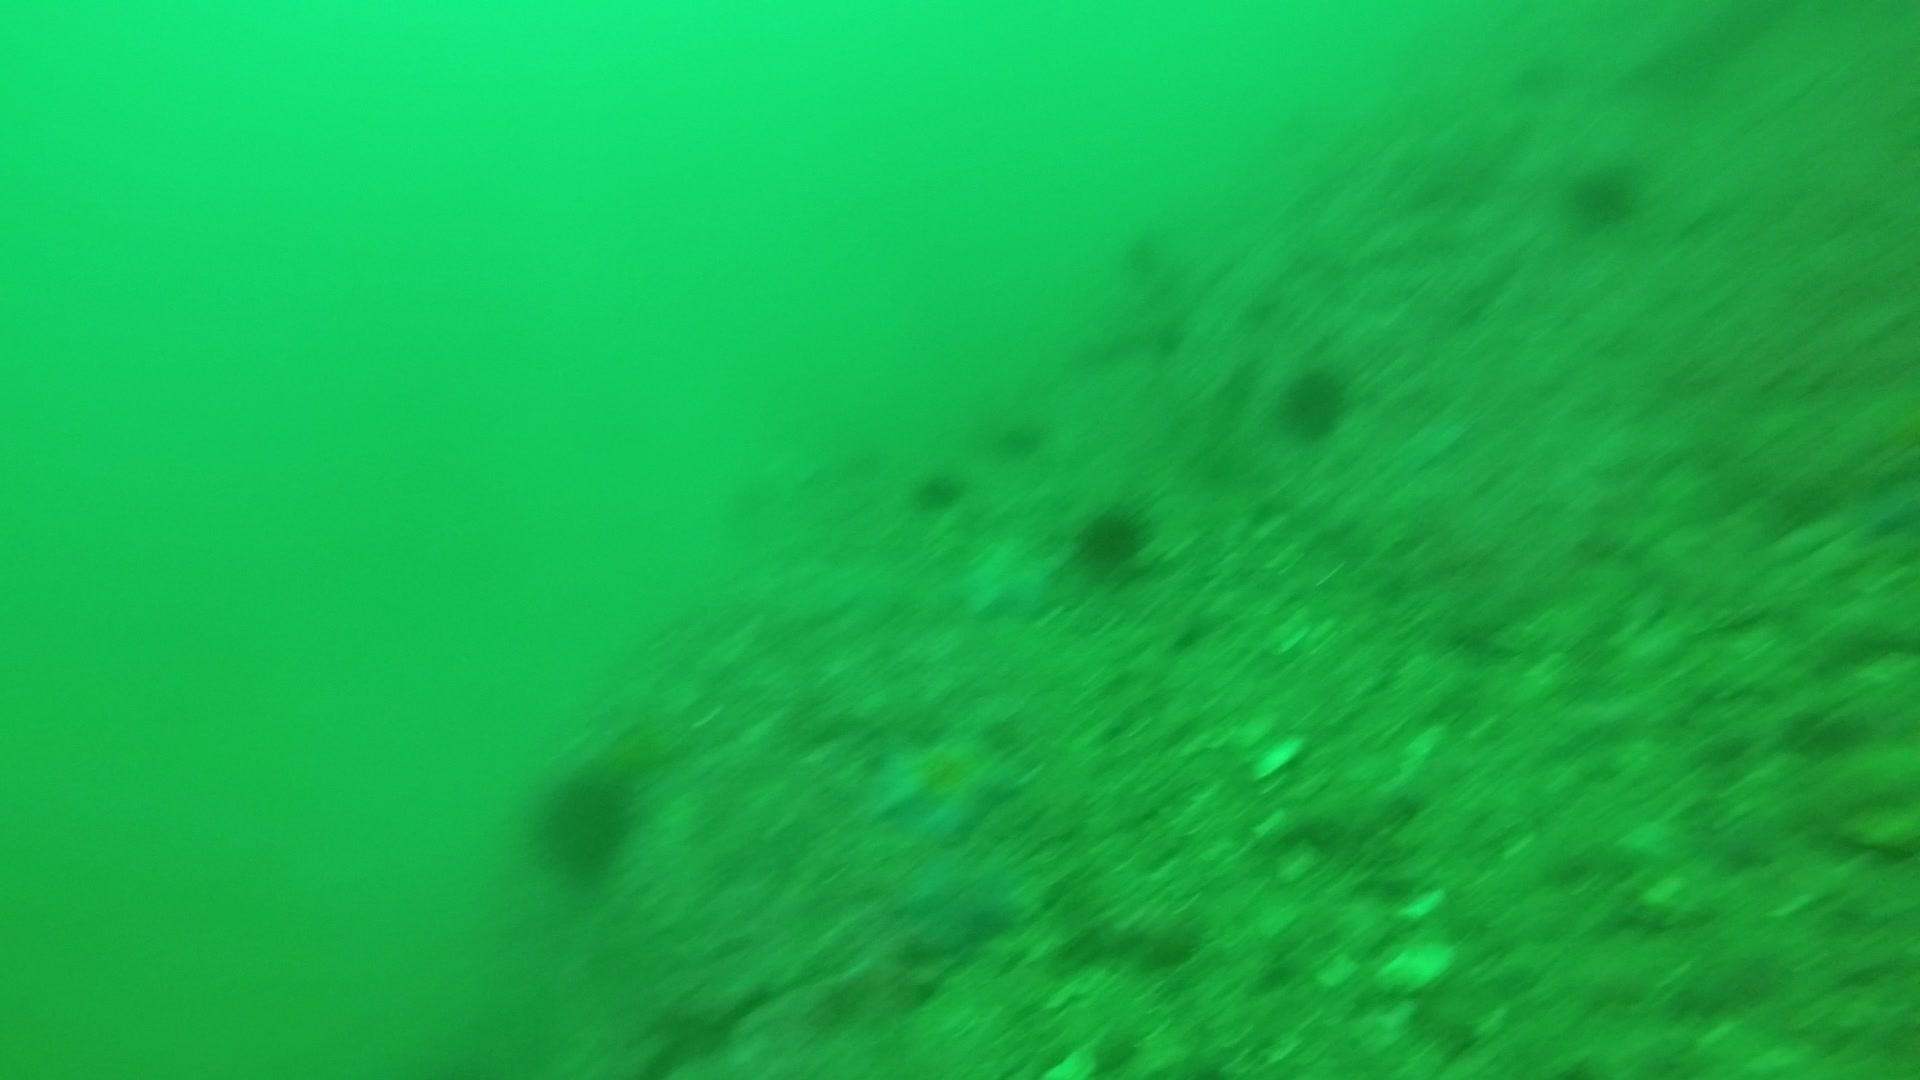echinus: (522, 756, 645, 886), (1274, 359, 1354, 443), (1071, 497, 1156, 574), (1563, 154, 1644, 232), (986, 405, 1051, 462), (909, 462, 967, 516)
starfish: (869, 723, 1029, 844), (894, 844, 1033, 956), (955, 531, 1063, 625)
